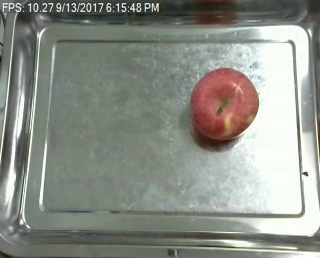Apple: (188, 68, 259, 142)
